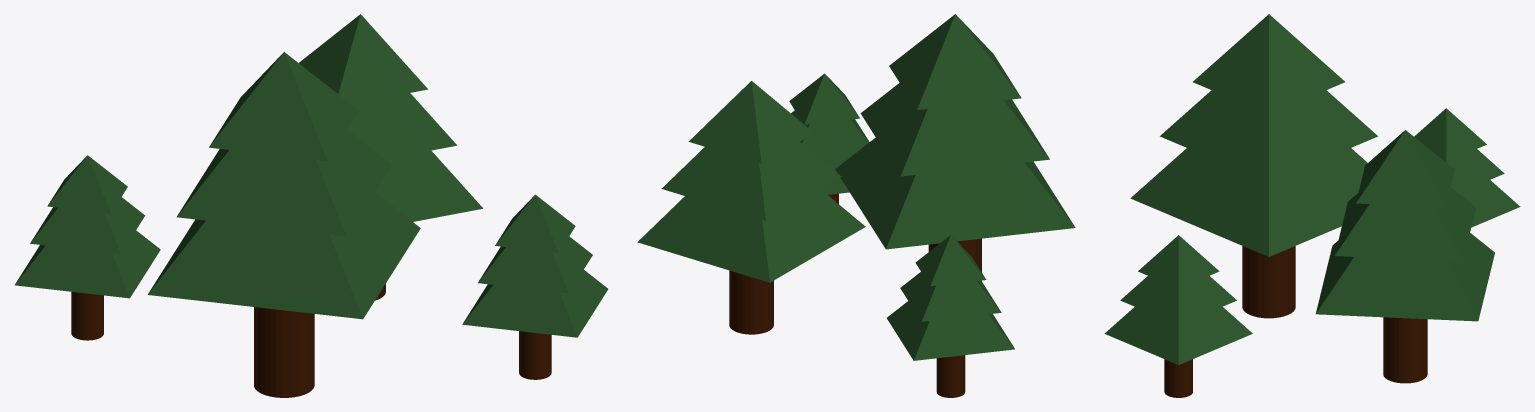
File: TreesV1.fbx
The picture shows the model from 3 angles, left to right: view 1: azimuth 30°, elevation 25°; view 2: azimuth 150°, elevation 25°; view 3: azimuth 270°, elevation 25°; orthographic projection. The views are drawn at different scales.
Parts seen in each view (by area): view 1: Bot Branches, Bot Branches.002, Bot Branches.003, Bot Branches.001; view 2: Bot Branches, Bot Branches.002, Bot Branches.003, Bot Branches.001; view 3: Bot Branches, Bot Branches.002, Bot Branches.001, Bot Branches.003.
Boxes of the visible parts, x1,y1,x2,y2 form: Bot Branches: (147, 52, 420, 397); Bot Branches.002: (299, 14, 482, 300); Bot Branches.003: (15, 155, 160, 340); Bot Branches.001: (462, 194, 608, 379); Bot Branches: (835, 14, 1075, 280); Bot Branches.002: (637, 81, 865, 334); Bot Branches.003: (887, 235, 1014, 397); Bot Branches.001: (789, 73, 869, 203); Bot Branches: (1130, 14, 1377, 318); Bot Branches.002: (1316, 130, 1494, 383); Bot Branches.001: (1104, 235, 1252, 397); Bot Branches.003: (1414, 108, 1520, 227).
Size of the model in its own units: 8.21 by 5.94 by 7.62.
